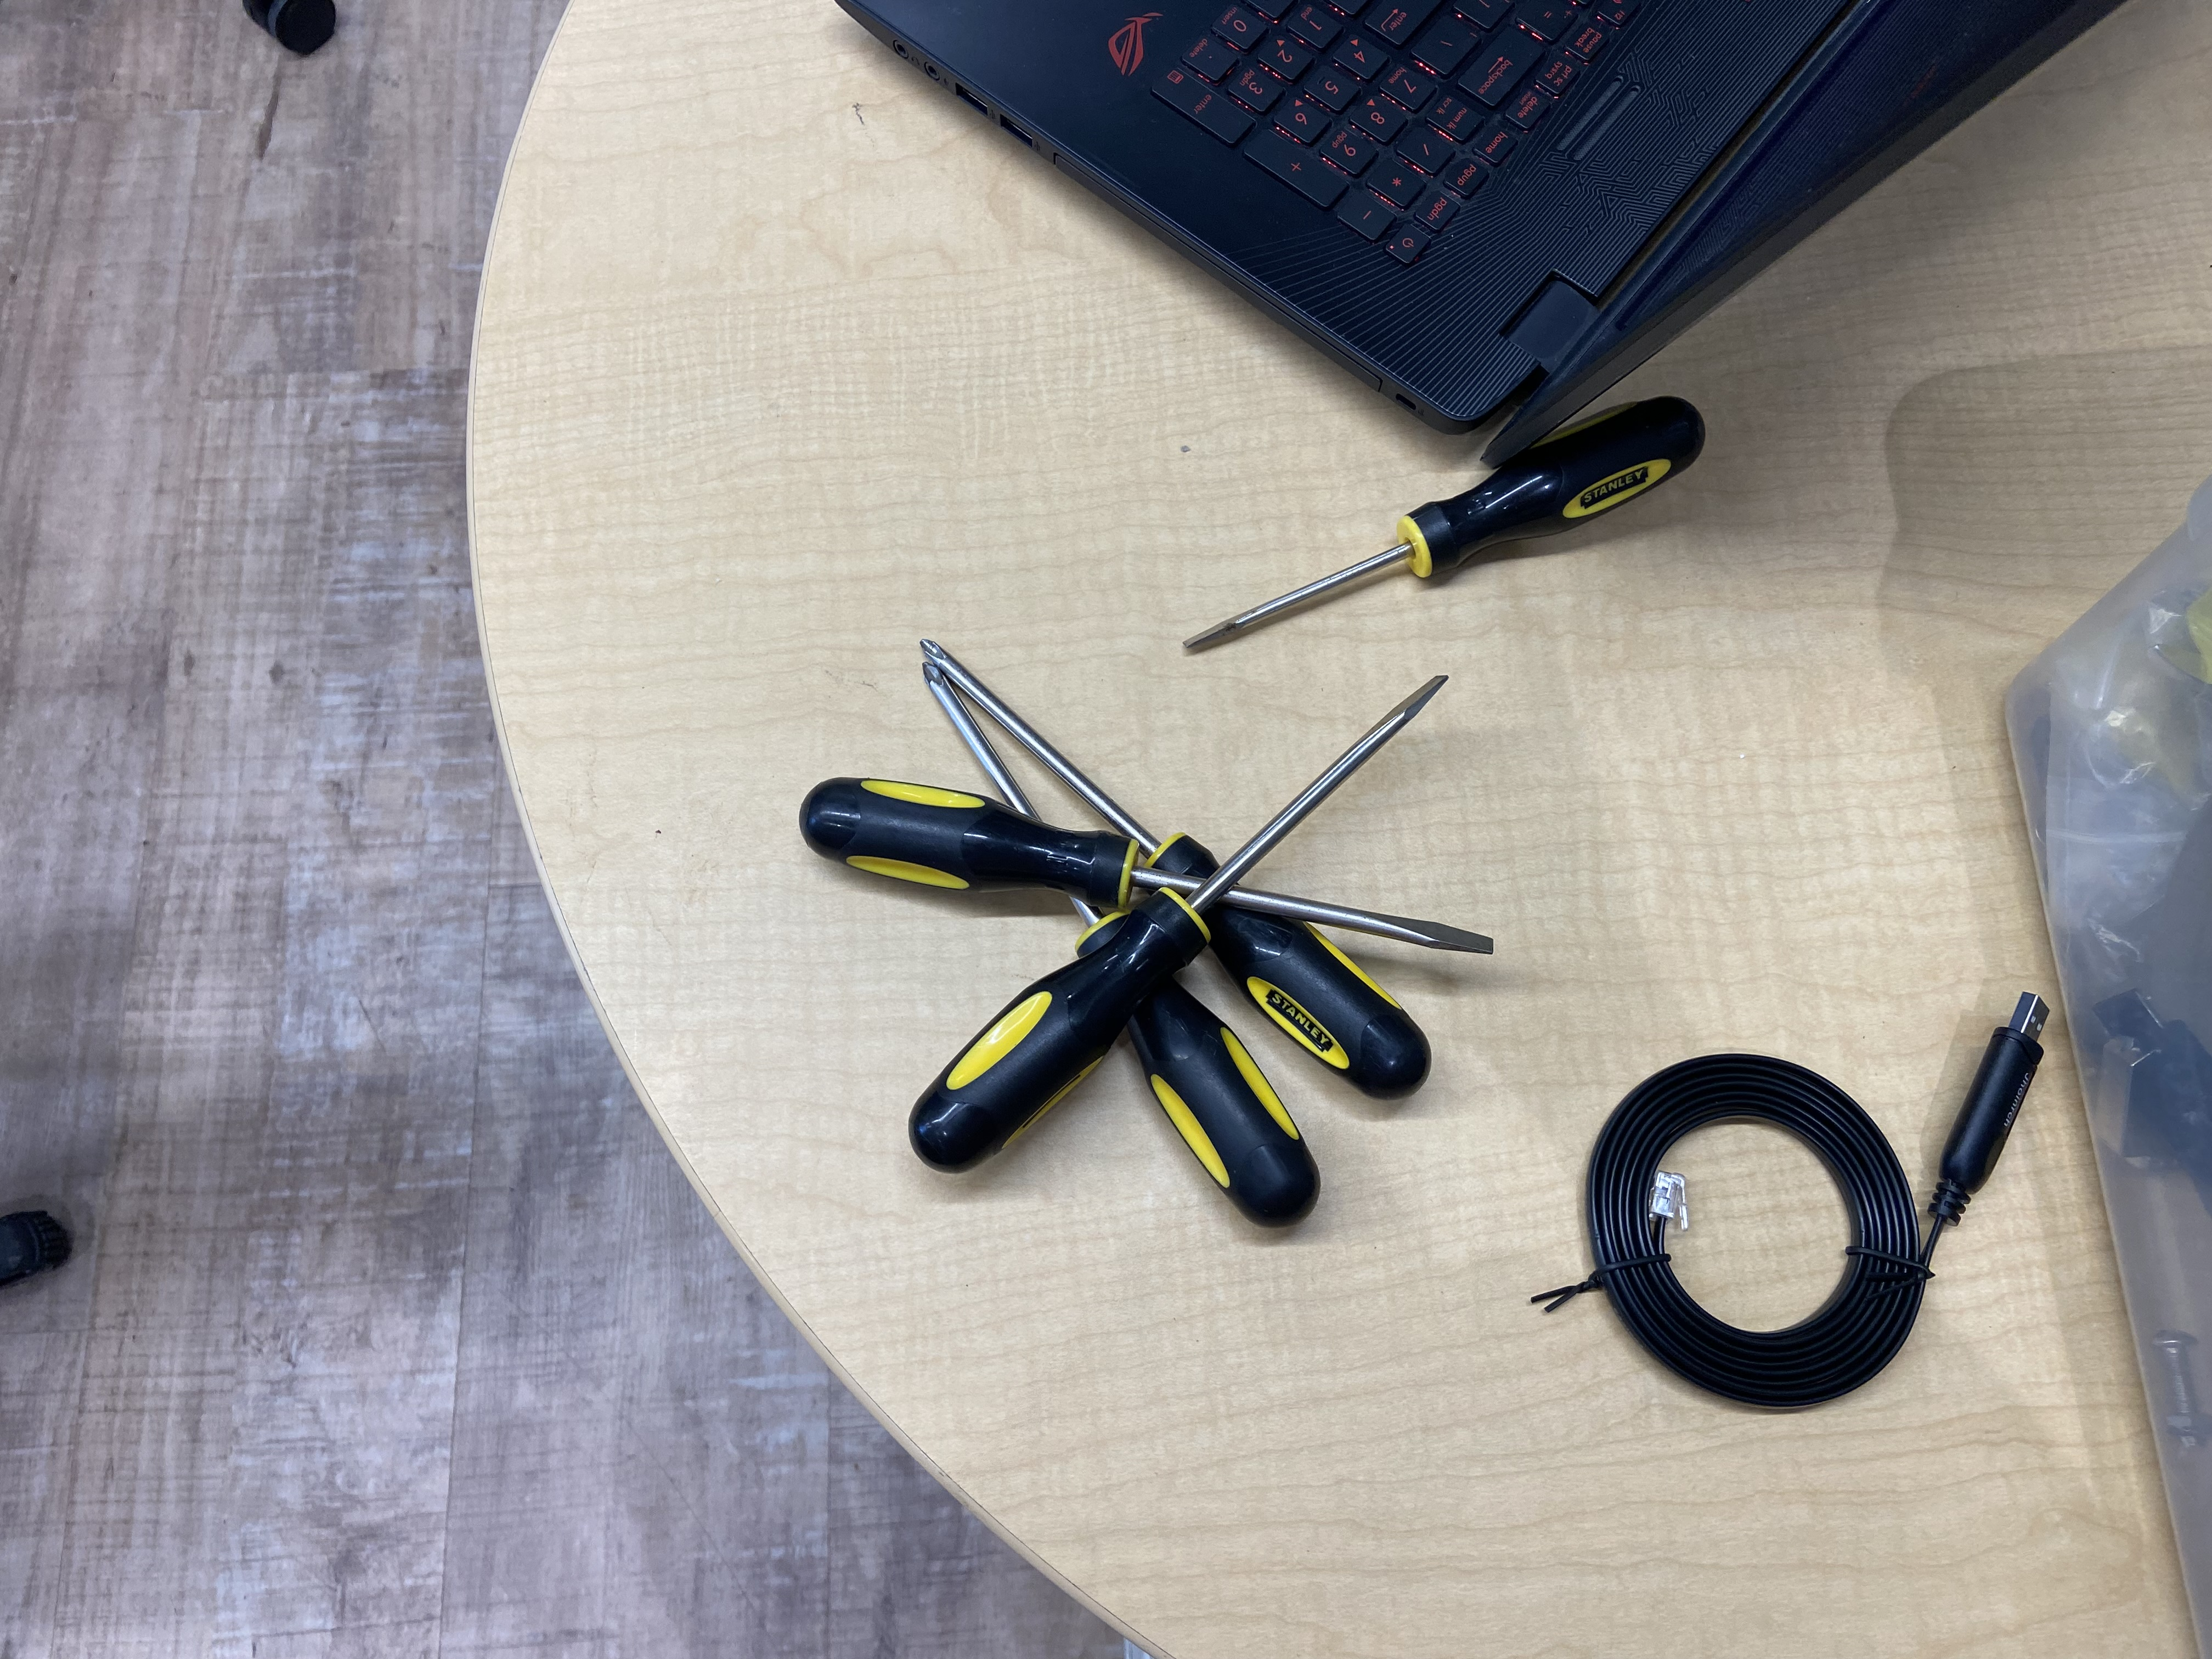screwdriver: (907, 662, 1444, 1162), (911, 638, 1313, 1237), (918, 631, 1425, 1089), (1174, 396, 1714, 653), (792, 777, 1507, 964)
